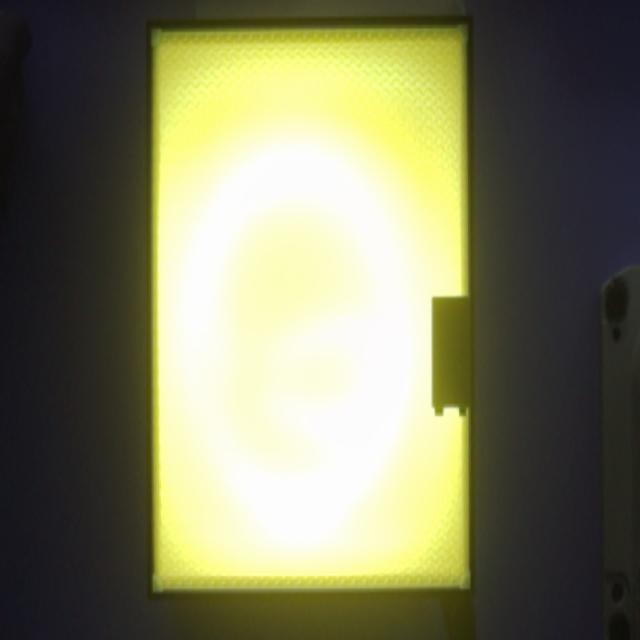bateria: (432, 295, 471, 416)
mesa: (146, 16, 476, 600)
